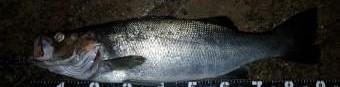fish: (30, 10, 319, 83)
